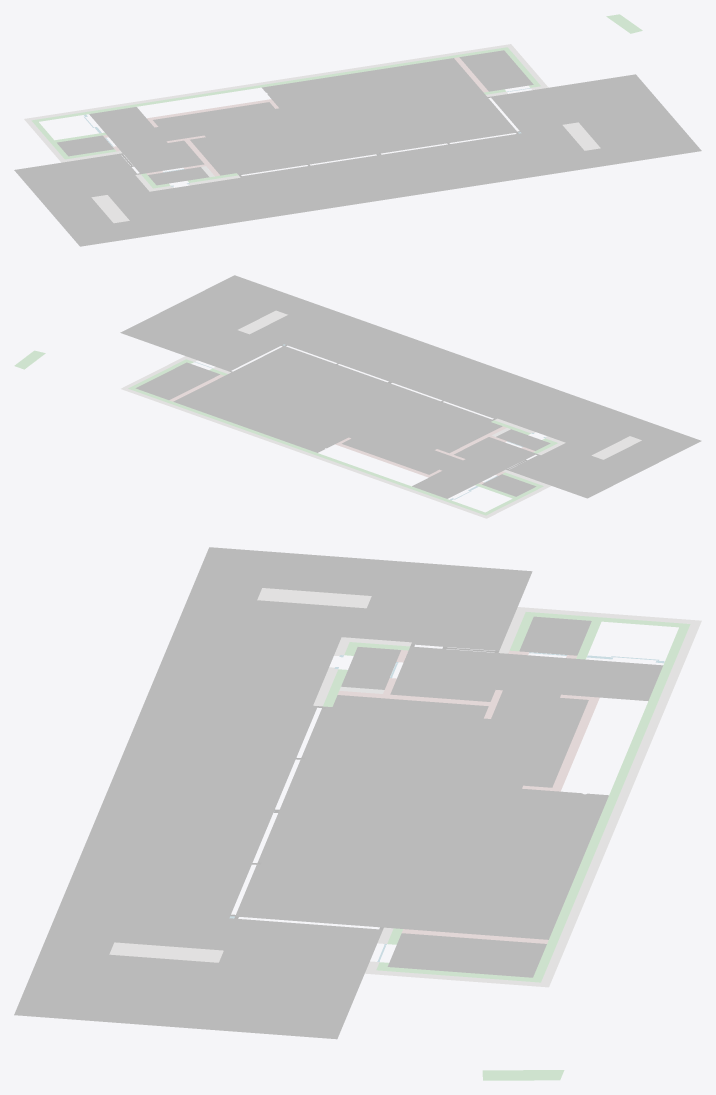
Rendered from floor-495000.glb.
3 views of the same model, one above another, from view 1: azimuth 30°, elevation 25°; view 2: azimuth 150°, elevation 25°; view 3: azimuth 270°, elevation 25° (orthographic). The views are drawn at different scales.
Visible parts, largest first — view 1: SectionBody_8,b683faed-fb9d-4cc6-b100-20de4a1bdad3, SectionBody_28,c4d4f5d7-260c-4ad4-a9ce-62868acbba62, SectionBody_60,63c04251-d135-4bce-8152-a9d17808b4c5, SectionBody_64,2d03ef07-ffb8-4f88-878f-c5a2b548d946, SectionBody_39,dc67b657-ab68-42d4-8bbd-9122a325cf12, SectionBody_38,dc67b657-ab68-42d4-8bbd-9122a325cf12, SectionBody_69,40f009c5-f6c7-4ef2-8b93-dde184843d29, SectionBody_36,89b1fc52-30c9-421b-8aba-7937692566b4, SectionBody_37,795bc6dd-ffb6-464f-bd53-32254240021a, SectionBody_66,afa63a6e-7fae-4072-89ff-7fe7ec9445ff, SectionBody_51,9666f702-09d8-429c-ab40-5c51cb5530fb; view 2: SectionBody_8,b683faed-fb9d-4cc6-b100-20de4a1bdad3, SectionBody_28,c4d4f5d7-260c-4ad4-a9ce-62868acbba62, SectionBody_60,63c04251-d135-4bce-8152-a9d17808b4c5, SectionBody_64,2d03ef07-ffb8-4f88-878f-c5a2b548d946, SectionBody_39,dc67b657-ab68-42d4-8bbd-9122a325cf12, SectionBody_38,dc67b657-ab68-42d4-8bbd-9122a325cf12, SectionBody_69,40f009c5-f6c7-4ef2-8b93-dde184843d29, SectionBody_36,89b1fc52-30c9-421b-8aba-7937692566b4, SectionBody_37,795bc6dd-ffb6-464f-bd53-32254240021a, SectionBody_66,afa63a6e-7fae-4072-89ff-7fe7ec9445ff; view 3: SectionBody_8,b683faed-fb9d-4cc6-b100-20de4a1bdad3, SectionBody_28,c4d4f5d7-260c-4ad4-a9ce-62868acbba62, SectionBody_60,63c04251-d135-4bce-8152-a9d17808b4c5, SectionBody_64,2d03ef07-ffb8-4f88-878f-c5a2b548d946, SectionBody_39,dc67b657-ab68-42d4-8bbd-9122a325cf12, SectionBody_38,dc67b657-ab68-42d4-8bbd-9122a325cf12, SectionBody_69,40f009c5-f6c7-4ef2-8b93-dde184843d29, SectionBody_36,89b1fc52-30c9-421b-8aba-7937692566b4, SectionBody_37,795bc6dd-ffb6-464f-bd53-32254240021a, SectionBody_66,afa63a6e-7fae-4072-89ff-7fe7ec9445ff, SectionBody_51,9666f702-09d8-429c-ab40-5c51cb5530fb, SectionBody_0,3dff5309-9560-4853-bc5e-c196fdab0b36 (+4 smaller).
Boxes of the visible parts, x1,y1,x2,y2 form: SectionBody_8,b683faed-fb9d-4cc6-b100-20de4a1bdad3: [14, 74, 701, 246]; SectionBody_28,c4d4f5d7-260c-4ad4-a9ce-62868acbba62: [153, 58, 517, 175]; SectionBody_60,63c04251-d135-4bce-8152-a9d17808b4c5: [89, 107, 204, 173]; SectionBody_64,2d03ef07-ffb8-4f88-878f-c5a2b548d946: [459, 50, 533, 91]; SectionBody_39,dc67b657-ab68-42d4-8bbd-9122a325cf12: [29, 45, 507, 120]; SectionBody_38,dc67b657-ab68-42d4-8bbd-9122a325cf12: [37, 48, 503, 121]; SectionBody_69,40f009c5-f6c7-4ef2-8b93-dde184843d29: [57, 135, 114, 156]; SectionBody_36,89b1fc52-30c9-421b-8aba-7937692566b4: [148, 167, 209, 185]; SectionBody_37,795bc6dd-ffb6-464f-bd53-32254240021a: [562, 122, 600, 150]; SectionBody_66,afa63a6e-7fae-4072-89ff-7fe7ec9445ff: [91, 195, 129, 223]; SectionBody_51,9666f702-09d8-429c-ab40-5c51cb5530fb: [147, 99, 272, 120]; SectionBody_8,b683faed-fb9d-4cc6-b100-20de4a1bdad3: [120, 275, 701, 498]; SectionBody_28,c4d4f5d7-260c-4ad4-a9ce-62868acbba62: [173, 346, 502, 474]; SectionBody_60,63c04251-d135-4bce-8152-a9d17808b4c5: [412, 437, 536, 498]; SectionBody_64,2d03ef07-ffb8-4f88-878f-c5a2b548d946: [135, 362, 219, 399]; SectionBody_39,dc67b657-ab68-42d4-8bbd-9122a325cf12: [125, 388, 485, 517]; SectionBody_38,dc67b657-ab68-42d4-8bbd-9122a325cf12: [132, 388, 484, 513]; SectionBody_69,40f009c5-f6c7-4ef2-8b93-dde184843d29: [482, 474, 536, 496]; SectionBody_36,89b1fc52-30c9-421b-8aba-7937692566b4: [496, 429, 550, 450]; SectionBody_37,795bc6dd-ffb6-464f-bd53-32254240021a: [238, 310, 287, 334]; SectionBody_66,afa63a6e-7fae-4072-89ff-7fe7ec9445ff: [591, 436, 641, 459]; SectionBody_8,b683faed-fb9d-4cc6-b100-20de4a1bdad3: [14, 547, 532, 1039]; SectionBody_28,c4d4f5d7-260c-4ad4-a9ce-62868acbba62: [235, 690, 608, 939]; SectionBody_60,63c04251-d135-4bce-8152-a9d17808b4c5: [390, 646, 663, 701]; SectionBody_64,2d03ef07-ffb8-4f88-878f-c5a2b548d946: [387, 933, 546, 977]; SectionBody_39,dc67b657-ab68-42d4-8bbd-9122a325cf12: [541, 624, 699, 983]; SectionBody_38,dc67b657-ab68-42d4-8bbd-9122a325cf12: [533, 627, 688, 978]; SectionBody_69,40f009c5-f6c7-4ef2-8b93-dde184843d29: [519, 616, 591, 655]; SectionBody_36,89b1fc52-30c9-421b-8aba-7937692566b4: [341, 647, 400, 689]; SectionBody_37,795bc6dd-ffb6-464f-bd53-32254240021a: [109, 942, 223, 962]; SectionBody_66,afa63a6e-7fae-4072-89ff-7fe7ec9445ff: [257, 588, 371, 608]; SectionBody_51,9666f702-09d8-429c-ab40-5c51cb5530fb: [551, 697, 599, 791]; SectionBody_0,3dff5309-9560-4853-bc5e-c196fdab0b36: [516, 607, 701, 624].
Bounding box in the file's own units: 25650 × 0 × 13975.
